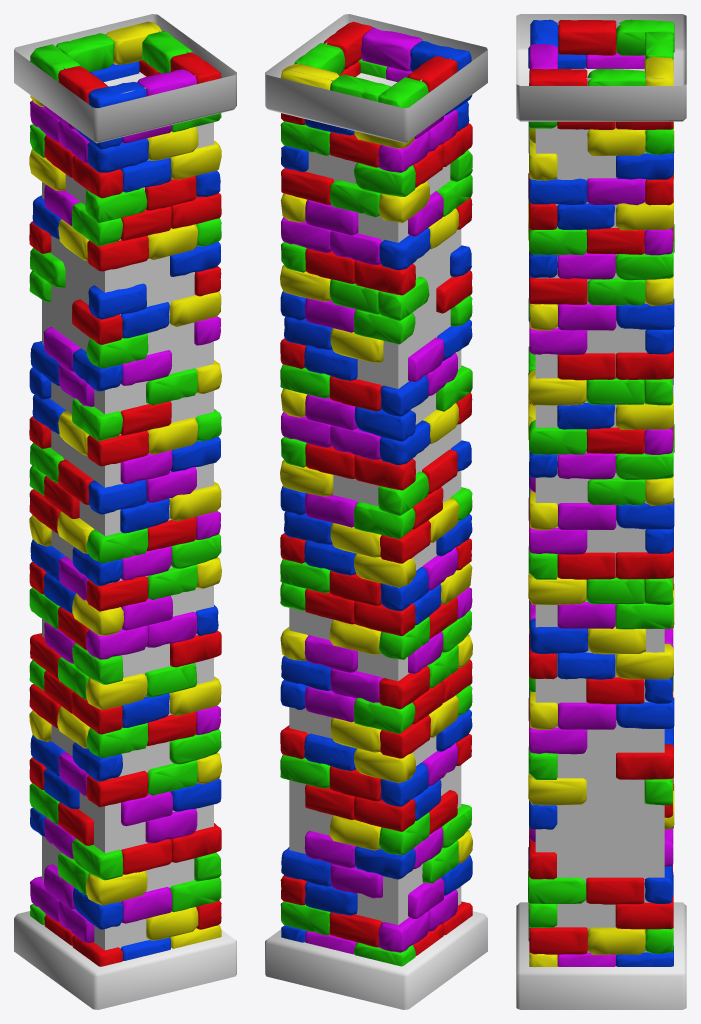
Rendered from column_damaged.fbx.
The picture shows the model from 3 angles, left to right: view 1: azimuth 30°, elevation 25°; view 2: azimuth 150°, elevation 25°; view 3: azimuth 270°, elevation 25°; orthographic projection. The views are drawn at different scales.
Parts seen in each view (by area): view 1: column, edge top, edge bottom; view 2: column, edge top, edge bottom; view 3: column, edge top, edge bottom.
Boxes of the visible parts, x1,y1,x2,y2 form: column: (29, 21, 221, 966); edge top: (14, 14, 236, 143); edge bottom: (14, 911, 236, 1009); column: (280, 21, 472, 966); edge top: (265, 14, 487, 143); edge bottom: (265, 911, 487, 1009); column: (528, 19, 674, 967); edge top: (516, 14, 686, 121); edge bottom: (516, 902, 686, 1009).
Bounding box in the file's own units: 117 × 701 × 117.
